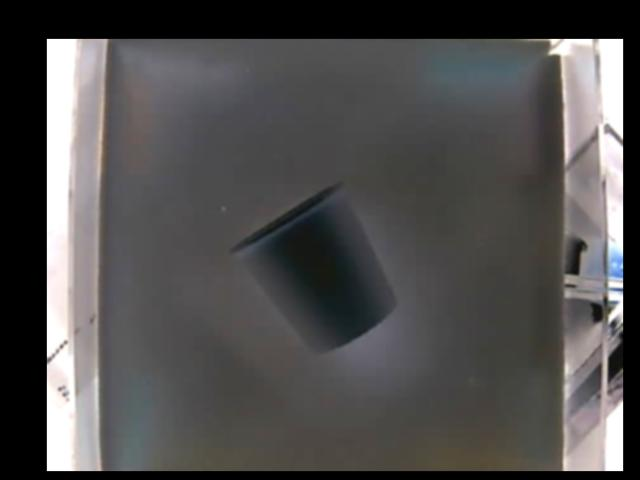Cup: (234, 181, 398, 354)
